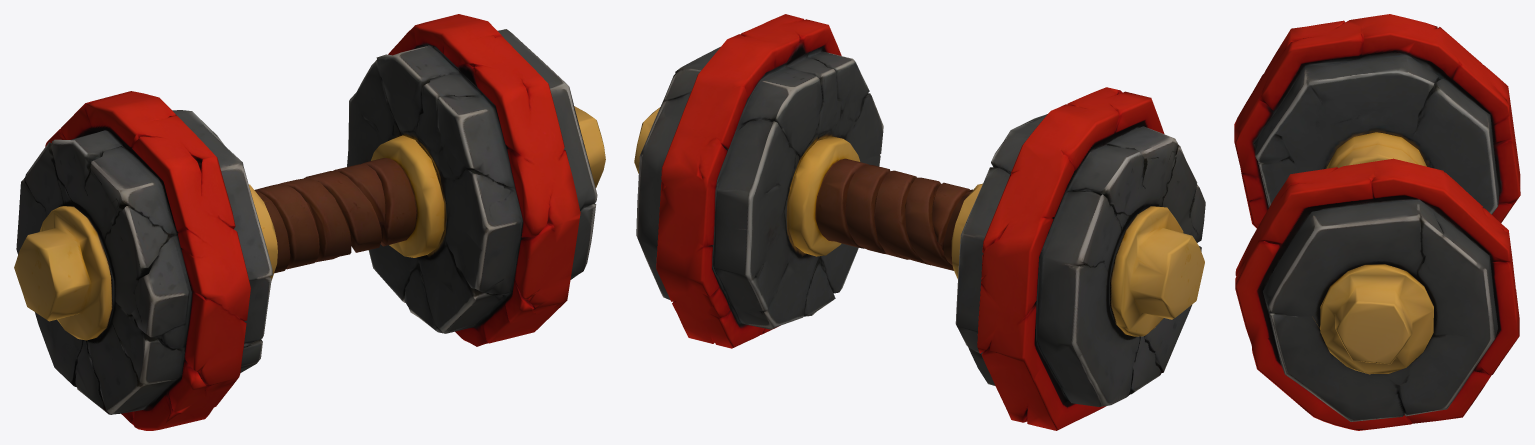
File: dumbbell_(workout_icon).fbx
3 views of the same model, side by side, from view 1: azimuth 30°, elevation 25°; view 2: azimuth 150°, elevation 25°; view 3: azimuth 270°, elevation 25° (orthographic). The views are drawn at different scales.
Parts seen in each view (by area): view 1: tripo_node_1cfd989c; view 2: tripo_node_1cfd989c; view 3: tripo_node_1cfd989c.
Boxes of the visible parts, left/top/right/bottom form: tripo_node_1cfd989c: left=14, top=14, right=605, bottom=430; tripo_node_1cfd989c: left=634, top=14, right=1205, bottom=430; tripo_node_1cfd989c: left=1234, top=14, right=1520, bottom=430.
Size of the model in its own units: 100 by 52.18 by 52.85.
Materials: 1 (1 with a texture image).
